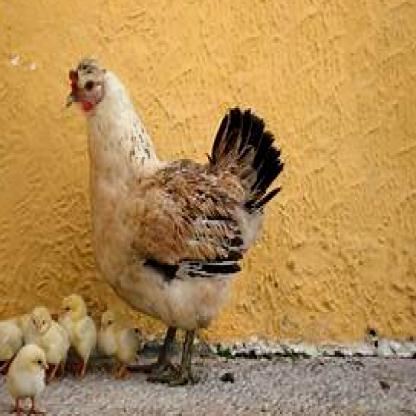chicken: (64, 57, 284, 386), (26, 308, 70, 383), (96, 306, 140, 379), (63, 298, 99, 377), (8, 347, 50, 414)
